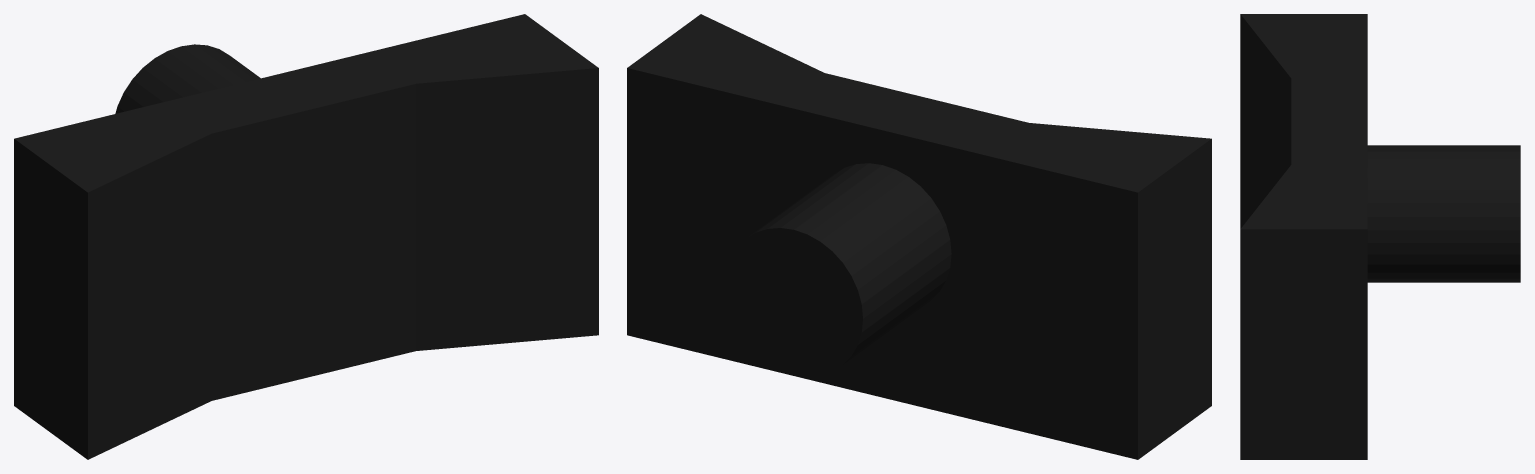
Rendered from data.dae.
3 renders of one model, left to right at view 1: azimuth 30°, elevation 25°; view 2: azimuth 150°, elevation 25°; view 3: azimuth 270°, elevation 25°, orthographic. The views are drawn at different scales.
Visible parts, largest first — view 1: NVGoggles; view 2: NVGoggles; view 3: NVGoggles.
Boxes of the visible parts, box(x1,y1,x2,y2) form: NVGoggles: box(14, 14, 598, 459); NVGoggles: box(627, 14, 1211, 459); NVGoggles: box(1240, 14, 1520, 459).
Size of the model in its own units: 0.4 by 0.22 by 0.2.
Materials: 1 (1 with a texture image).
